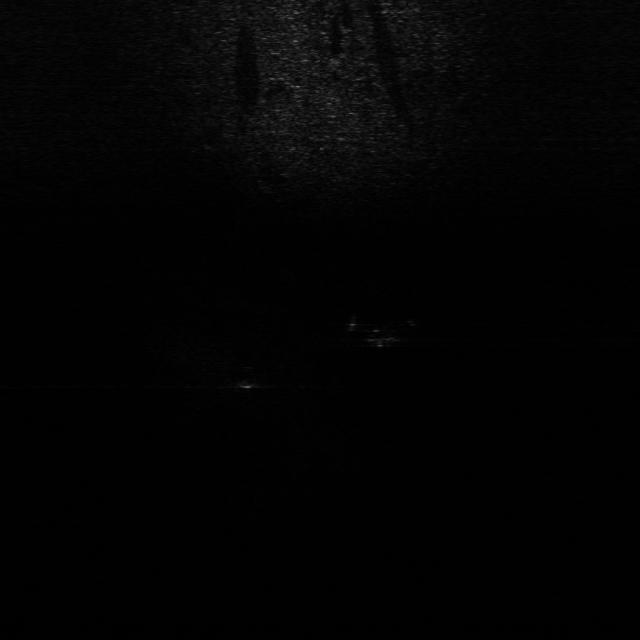ball: (227, 365, 267, 395)
human body: (342, 308, 427, 351)
